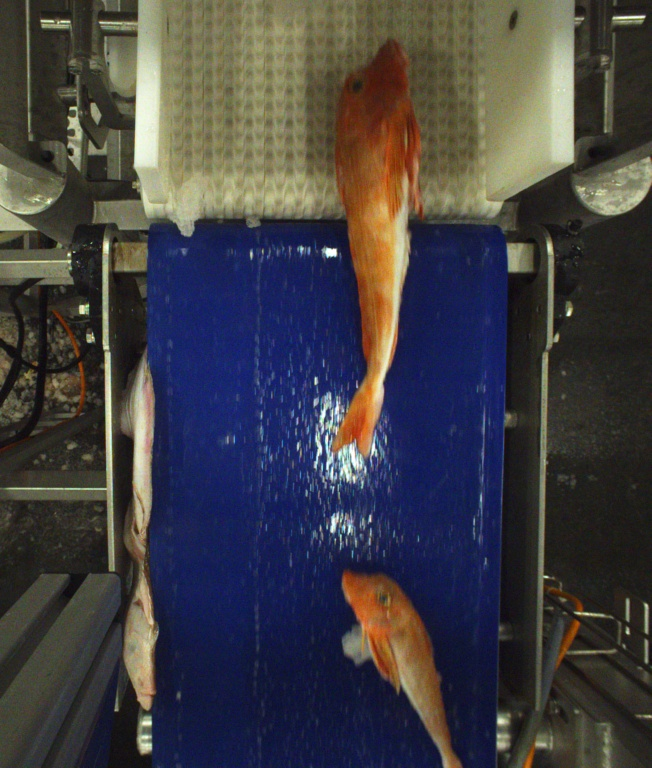GUU: (338, 570, 468, 768)
